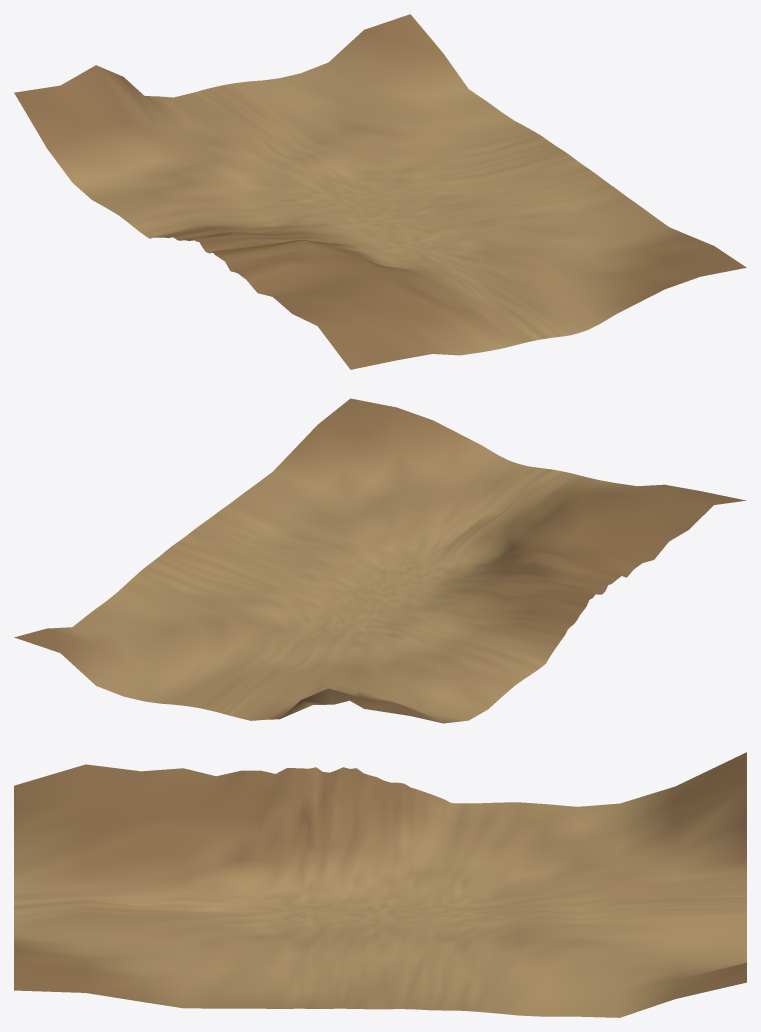
3 renders of one model, top to bottom at view 1: azimuth 30°, elevation 25°; view 2: azimuth 150°, elevation 25°; view 3: azimuth 270°, elevation 25°, orthographic. The views are drawn at different scales.
Parts seen in each view (by area): view 1: terrain-ch04.001; view 2: terrain-ch04.001; view 3: terrain-ch04.001.
Boxes of the visible parts, x1=… form: terrain-ch04.001: x1=14, y1=14, x2=746, y2=369; terrain-ch04.001: x1=14, y1=398, x2=745, y2=723; terrain-ch04.001: x1=14, y1=752, x2=746, y2=1017.
Size of the model in its own units: 2827 by 403 by 4156.
